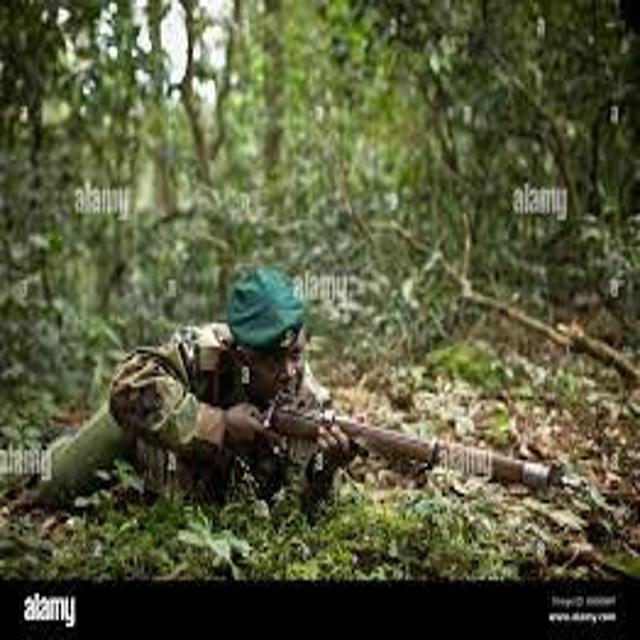gun: (195, 359, 587, 564)
poacher: (1, 236, 459, 558)
